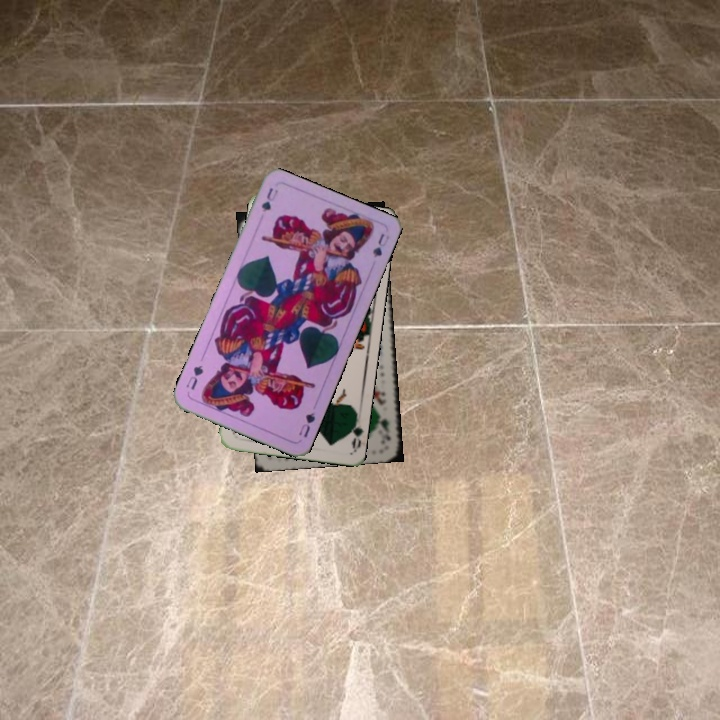GK: (375, 408, 393, 446)
GO: (343, 409, 364, 450)
GU: (294, 408, 318, 440), (257, 184, 281, 214)
